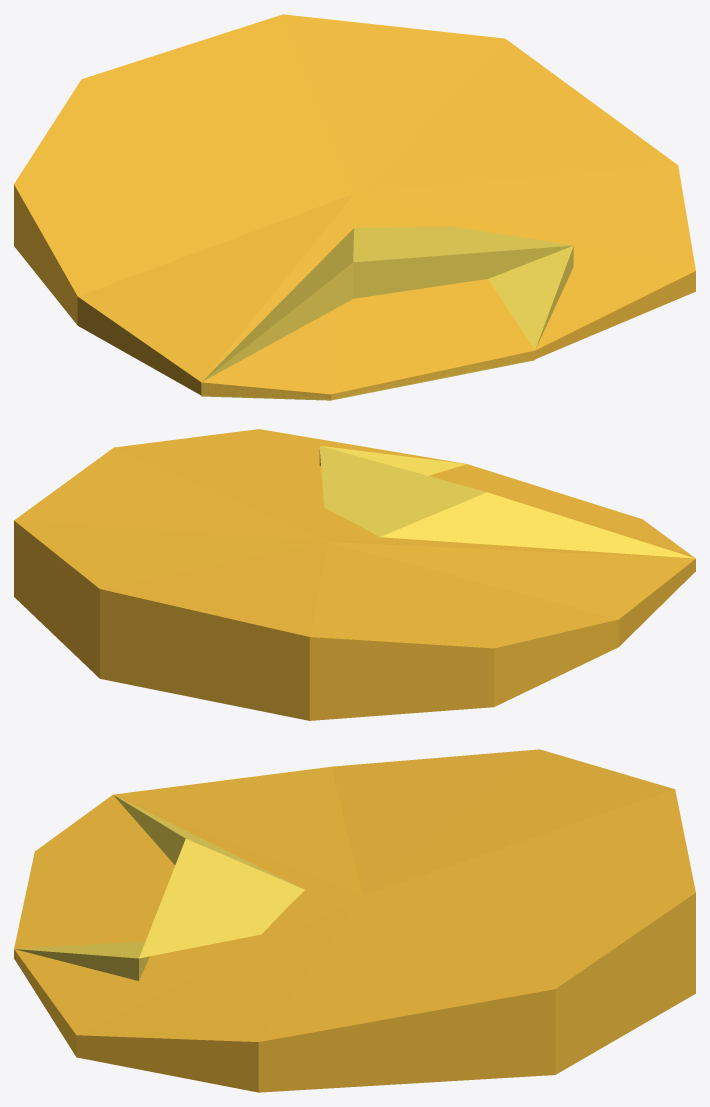
Rendered from ingredient-cheese.glb.
3 renders of one model, top to bottom at view 1: azimuth 30°, elevation 25°; view 2: azimuth 150°, elevation 25°; view 3: azimuth 270°, elevation 25°, orthographic. The views are drawn at different scales.
Visible parts, largest first — view 1: IngredientCheese, CheeseFold; view 2: IngredientCheese, CheeseFold; view 3: IngredientCheese, CheeseFold.
Part boxes in pixels (x1=…): IngredientCheese: x1=14, y1=14, x2=695, y2=399; CheeseFold: x1=201, y1=226, x2=573, y2=400; IngredientCheese: x1=14, y1=429, x2=695, y2=720; CheeseFold: x1=319, y1=446, x2=695, y2=571; IngredientCheese: x1=14, y1=749, x2=695, y2=1092; CheeseFold: x1=14, y1=795, x2=304, y2=980.
Bounding box in the file's own units: 1.34 × 0.216 × 1.31.
